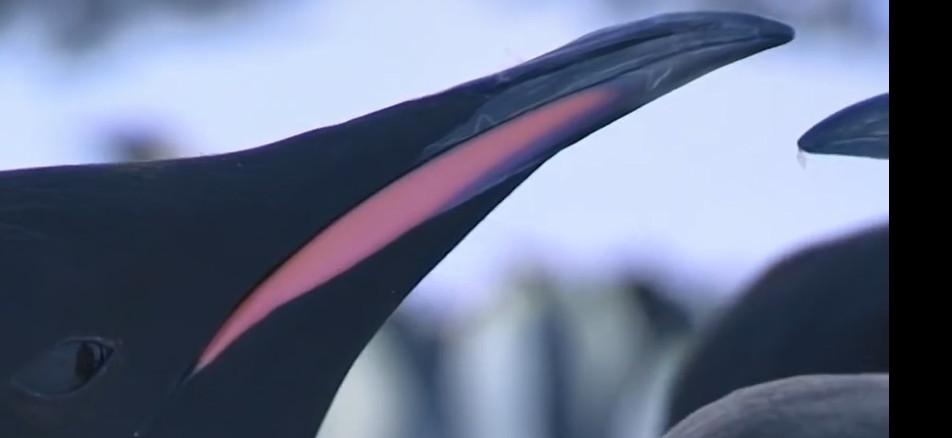Emperor Penguin: (0, 0, 818, 438), (372, 352, 906, 438)
